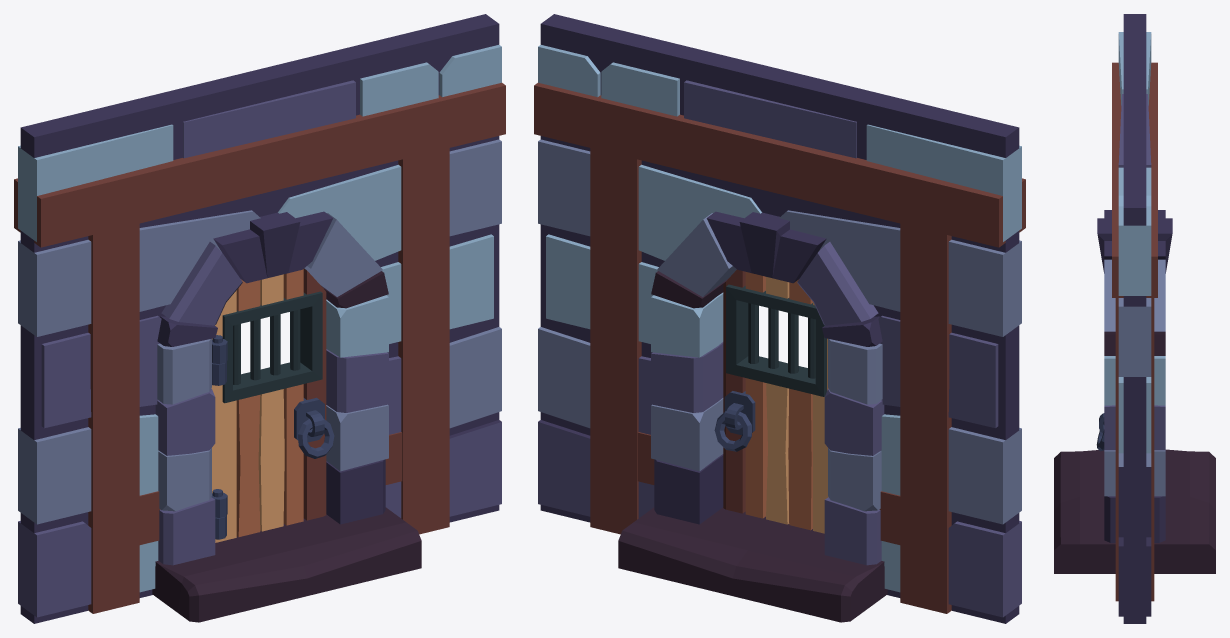
Rendered from Modular Wall 10 MK2 D1.fbx.
The picture shows the model from 3 angles, left to right: view 1: azimuth 30°, elevation 25°; view 2: azimuth 150°, elevation 25°; view 3: azimuth 270°, elevation 25°; orthographic projection. The views are drawn at different scales.
Visible parts, largest first — view 1: Modular Wall 10 MK2 D1, Modular Wall 10 D1 Doors; view 2: Modular Wall 10 MK2 D1, Modular Wall 10 D1 Doors; view 3: Modular Wall 10 MK2 D1, Modular Wall 10 D1 Doors.
Part boxes in pixels (x1,y1,x2,y2): Modular Wall 10 MK2 D1: [14, 14, 505, 623]; Modular Wall 10 D1 Doors: [211, 268, 334, 542]; Modular Wall 10 MK2 D1: [534, 14, 1025, 623]; Modular Wall 10 D1 Doors: [714, 269, 828, 533]; Modular Wall 10 MK2 D1: [1054, 14, 1215, 623]; Modular Wall 10 D1 Doors: [1096, 413, 1104, 451].
Bounding box in the file's own units: 400 × 400 × 141.
